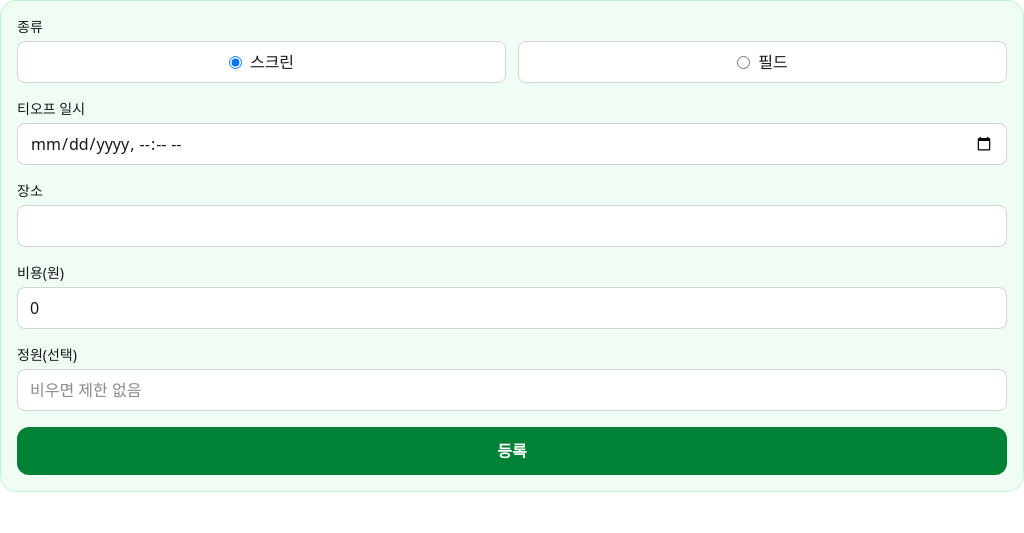
RoundForm › 과거 일시는 오류를 보여 준다
Click the radio button labelled "스크린" at x=235, y=62, box [229,56,242,68]
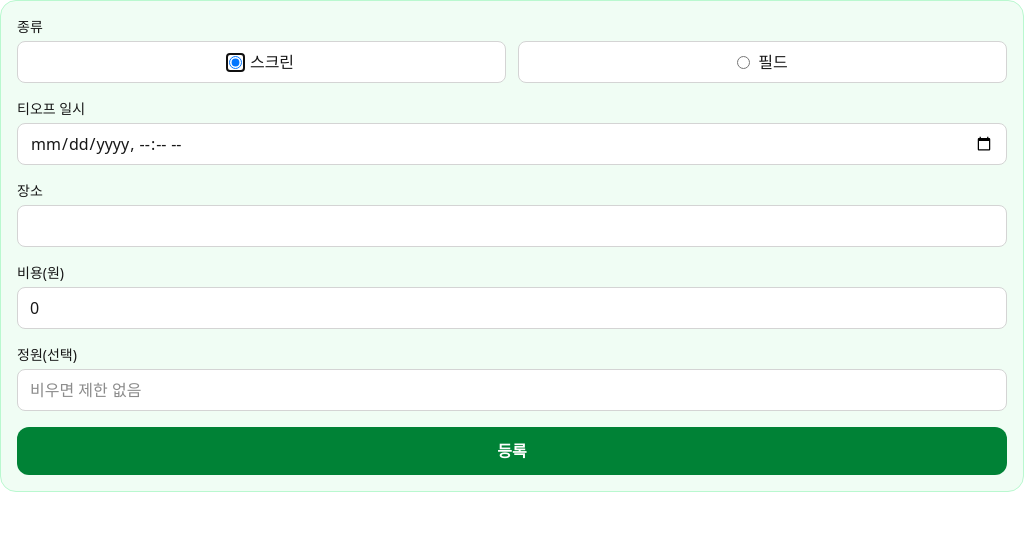
Type "2099-01-01T10:00" into the field labelled "티오프 일시" at x=512, y=144, box [17,123,1007,165]
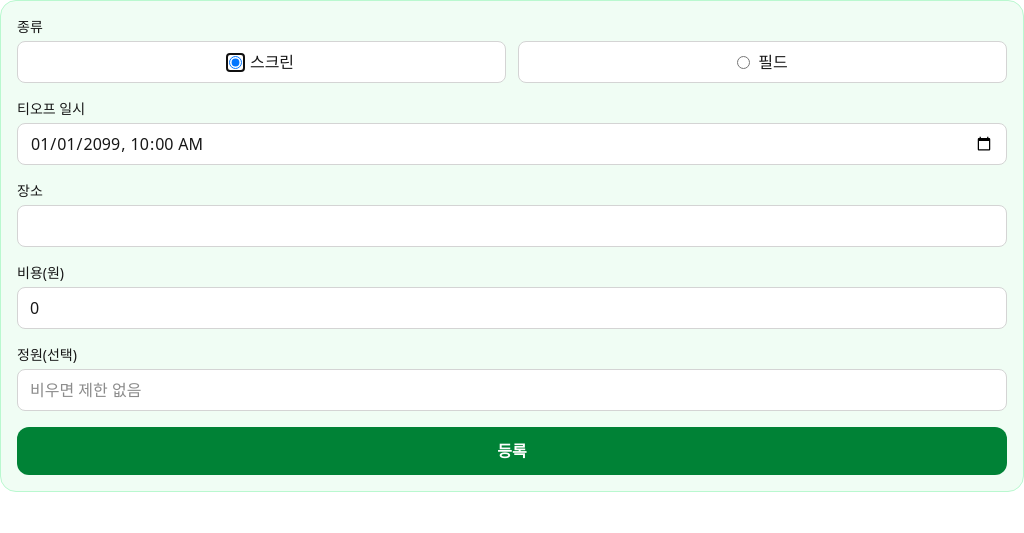
Type "  강남 스크린골프 " into the field labelled "장소" at x=512, y=226, box [17,205,1007,247]
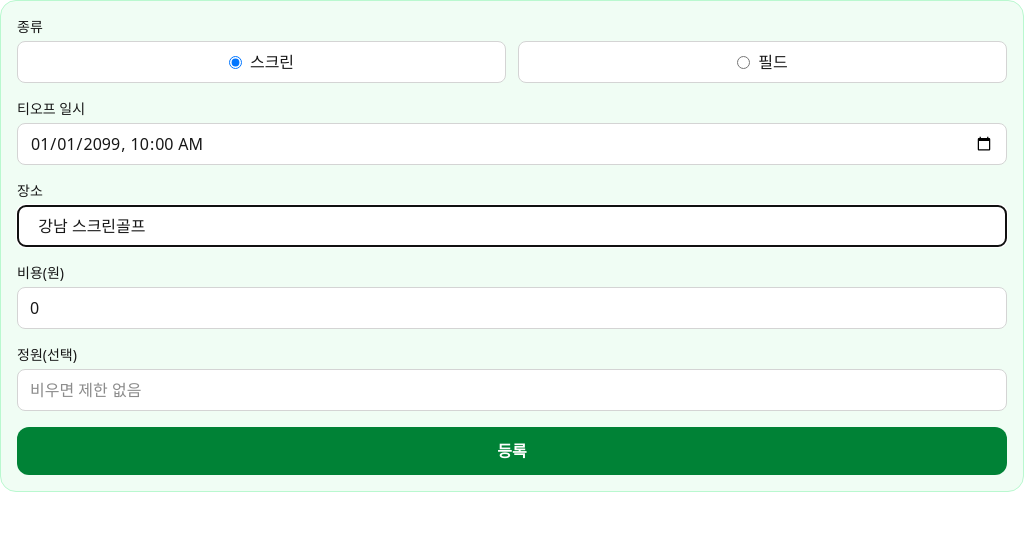
Replace the text in the field labelled "비용(원)" with "25000" at x=512, y=308, box [17,287,1007,329]
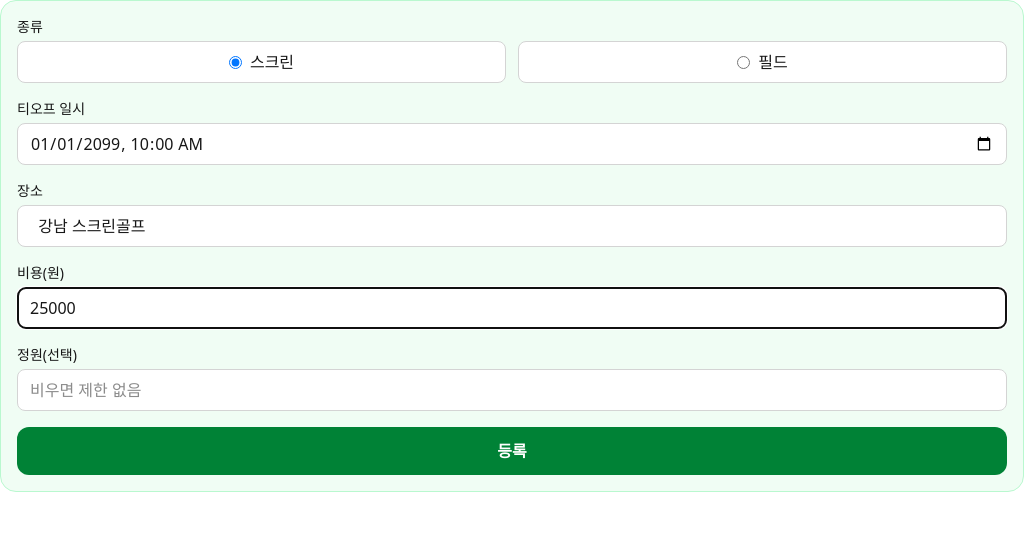
Replace the text in the field labelled "티오프 일시" with "2000-01-01T10:00" at x=512, y=144, box [17,123,1007,165]
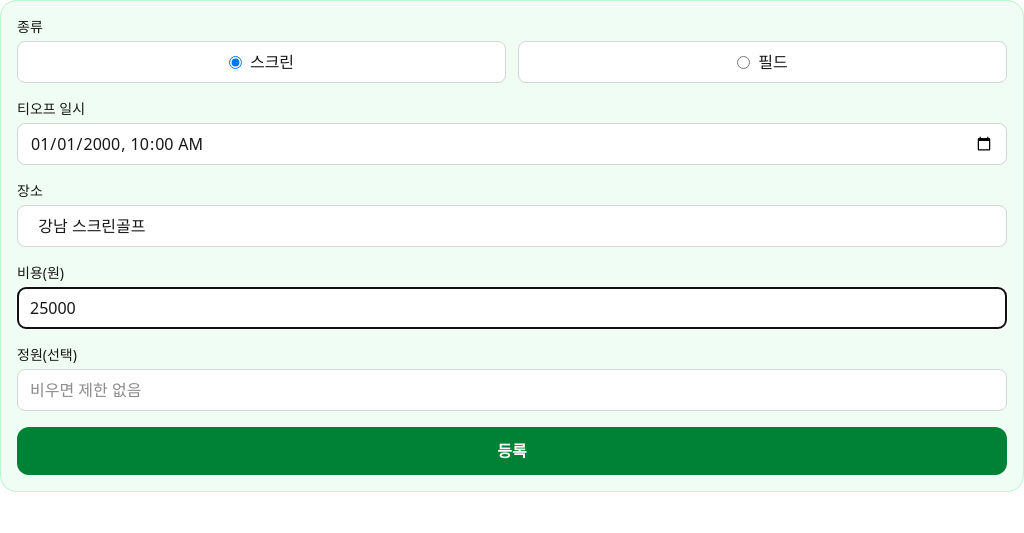
Click the button "등록" at x=512, y=451, box [17,427,1007,475]
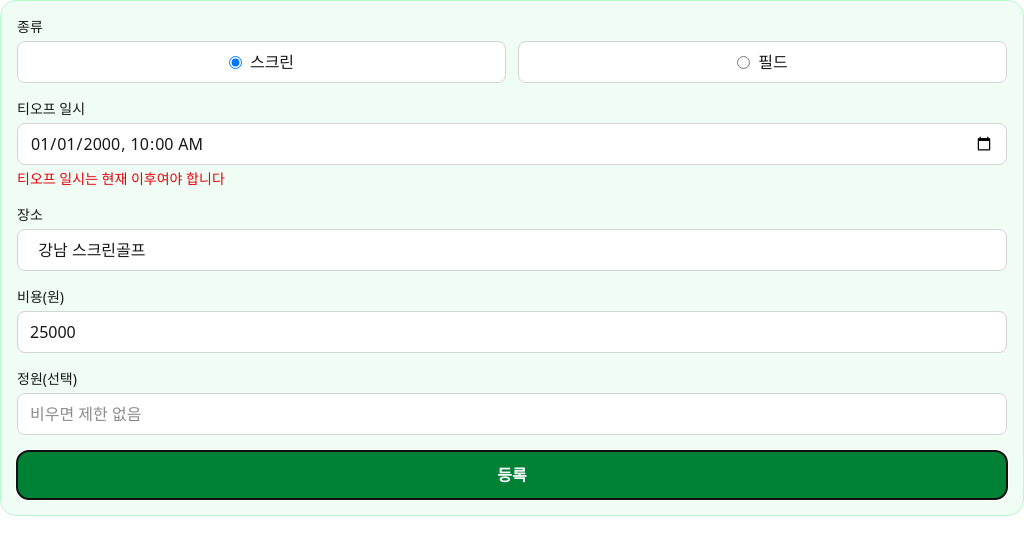
Expected: the text "티오프 일시는 현재 이후여야 합니다" is shown, [17,169,225,188]
